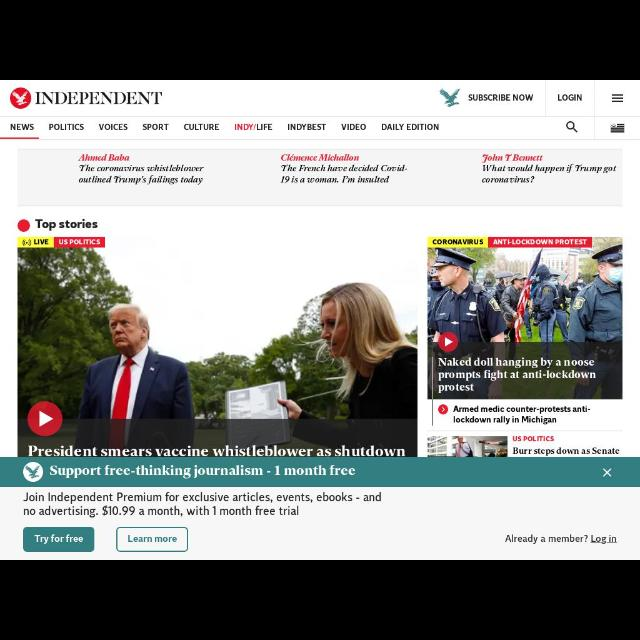button: (595, 82, 639, 115), (595, 118, 639, 138)
icon: (38, 410, 52, 428), (565, 120, 577, 134), (609, 124, 625, 134), (612, 92, 624, 104), (602, 468, 612, 478), (444, 338, 452, 348), (440, 406, 446, 412)
image: (19, 248, 418, 457), (20, 150, 622, 206), (427, 248, 623, 399), (10, 87, 162, 109), (428, 436, 507, 456), (28, 402, 62, 434), (22, 461, 44, 483), (440, 86, 460, 108), (438, 332, 458, 352)
multitab: (1, 116, 595, 138)
text: (24, 492, 382, 518), (48, 464, 356, 478), (454, 404, 592, 422), (505, 535, 617, 545), (513, 446, 619, 456), (379, 122, 439, 132), (468, 92, 534, 101), (34, 534, 84, 544), (127, 534, 177, 544), (56, 238, 102, 248), (512, 434, 554, 444), (287, 122, 327, 132), (234, 123, 274, 131), (338, 122, 368, 132), (183, 124, 220, 132), (99, 122, 128, 132), (48, 124, 84, 132), (9, 122, 35, 132), (557, 92, 583, 102), (143, 124, 169, 130), (32, 238, 50, 246)
textbutton: (22, 527, 94, 553), (546, 80, 596, 116), (116, 528, 188, 550)
